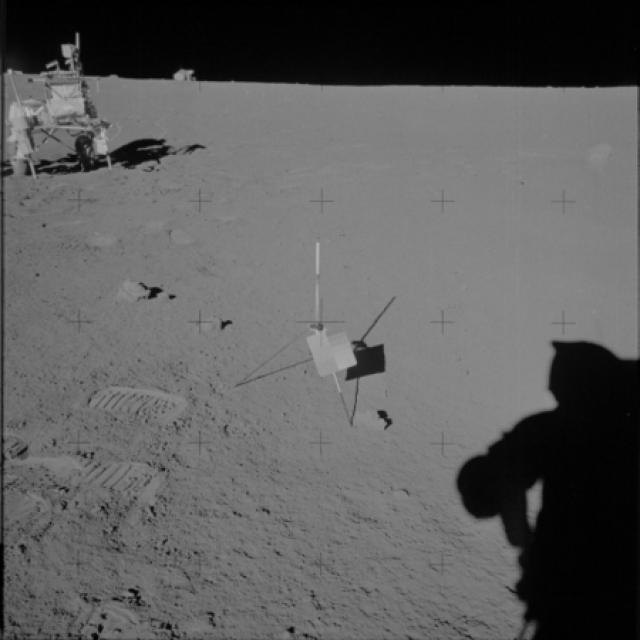rock: (103, 278, 172, 312), (352, 409, 413, 435), (190, 311, 234, 339)
